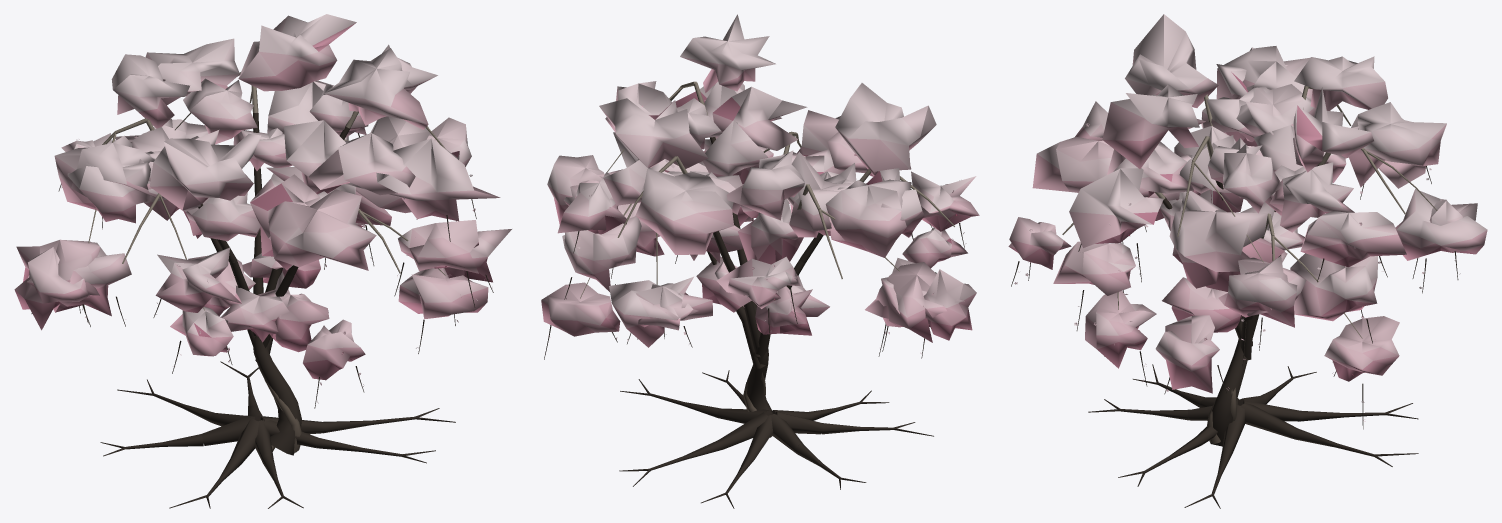
The model's file is cherry-tree.glb.
3 views of the same model, side by side, from view 1: azimuth 30°, elevation 25°; view 2: azimuth 150°, elevation 25°; view 3: azimuth 270°, elevation 25° (orthographic). The views are drawn at different scales.
Parts seen in each view (by area): view 1: cherry-tree; view 2: cherry-tree; view 3: cherry-tree.
Part boxes in pixels (x1=…): cherry-tree: x1=14, y1=14, x2=511, y2=508; cherry-tree: x1=541, y1=14, x2=979, y2=508; cherry-tree: x1=1008, y1=14, x2=1487, y2=508.
Bounding box in the file's own units: 6.68 × 5.64 × 6.33.
